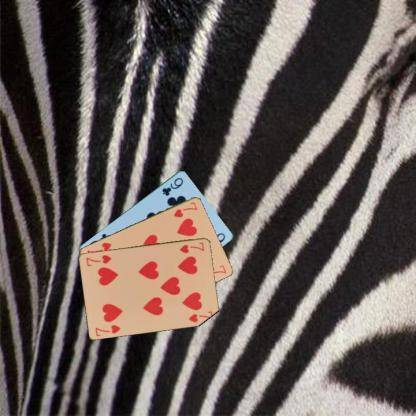7h: (171, 198, 199, 219), (92, 322, 121, 337), (177, 240, 206, 254)
9c: (160, 174, 184, 198)
